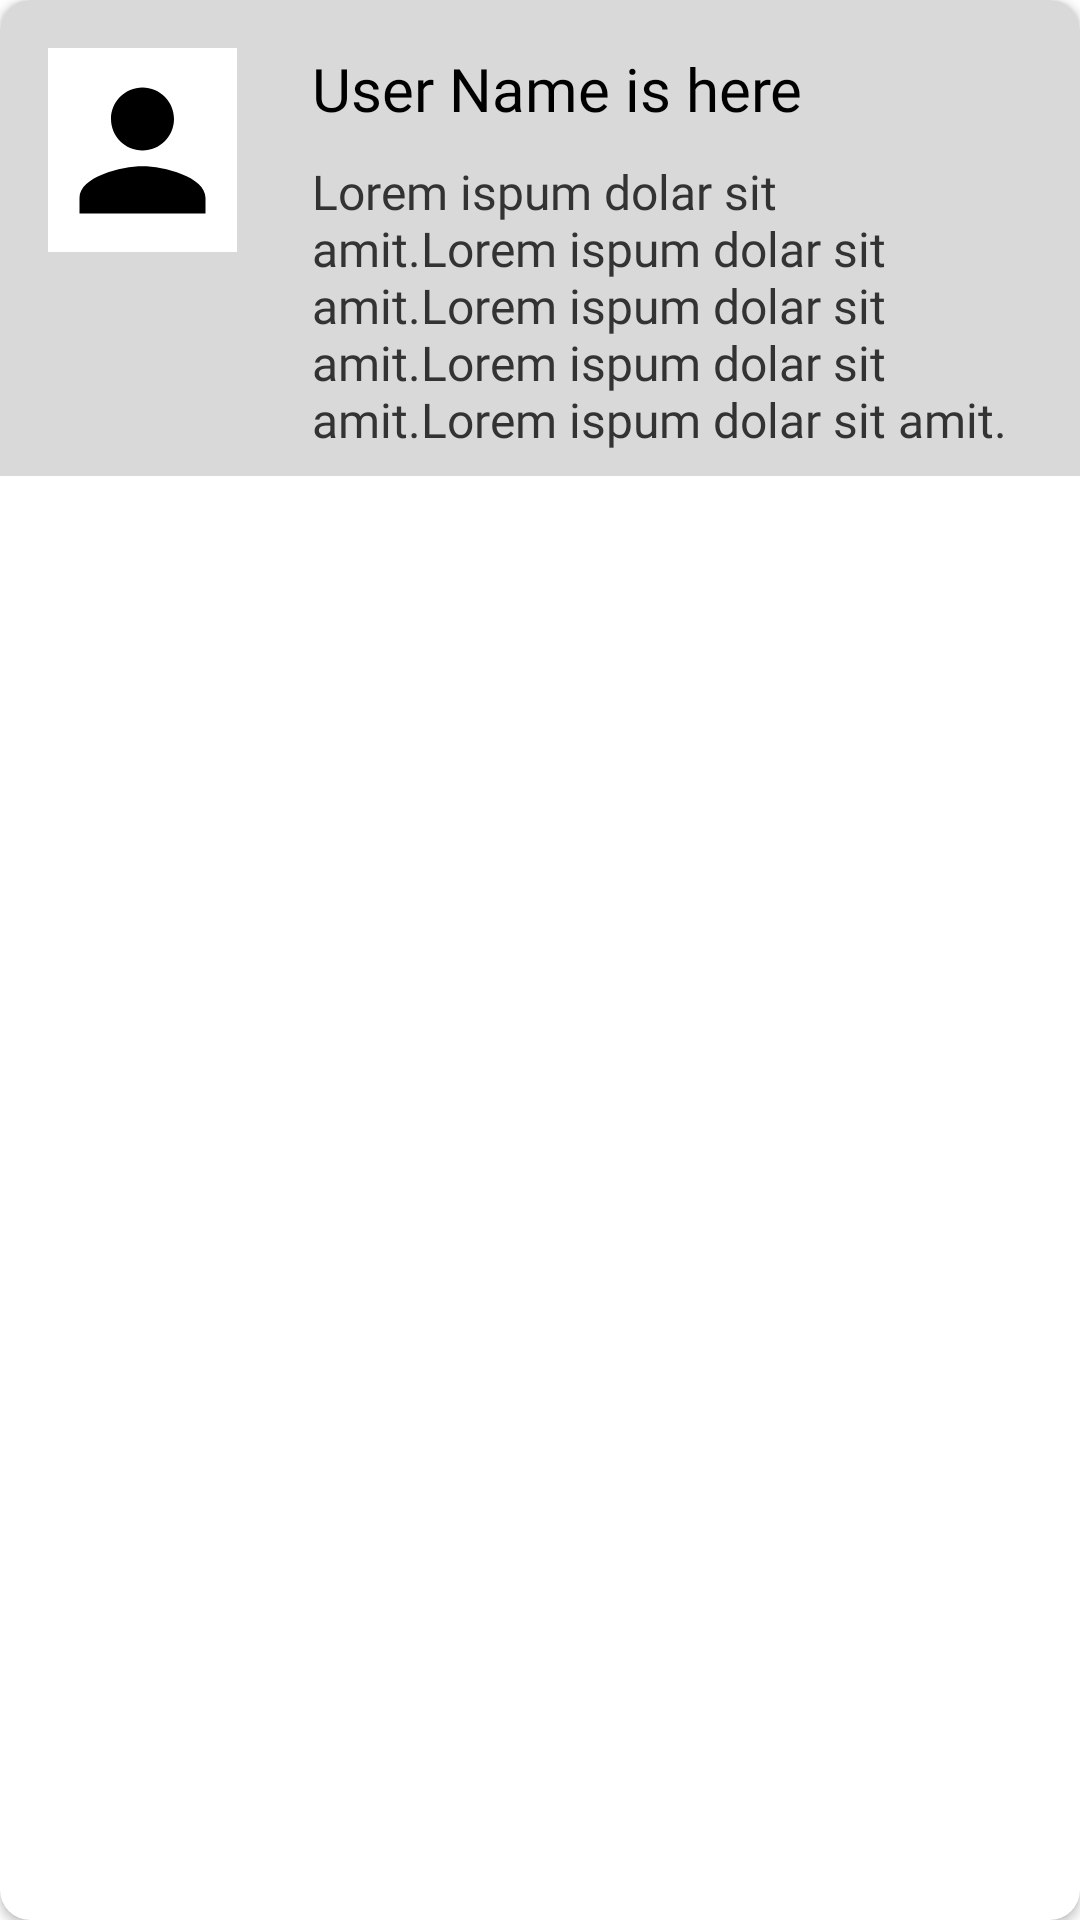

Icon bounding boxes for this 1080px x 1920px phone screenshot, format (x1, y1, x2, y2):
person: (48, 48, 237, 252)
